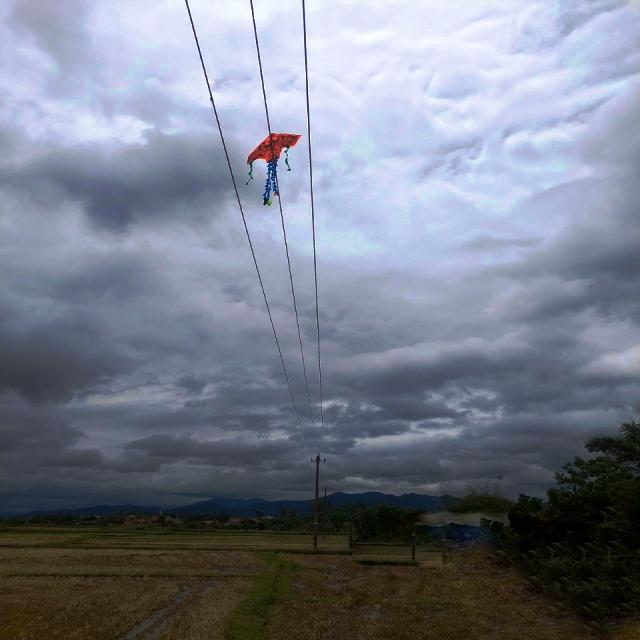obstruction: (245, 133, 296, 204)
poles: (313, 456, 321, 550)
wires: (184, 0, 311, 464), (301, 0, 321, 406), (277, 185, 310, 409), (248, 0, 271, 137)
